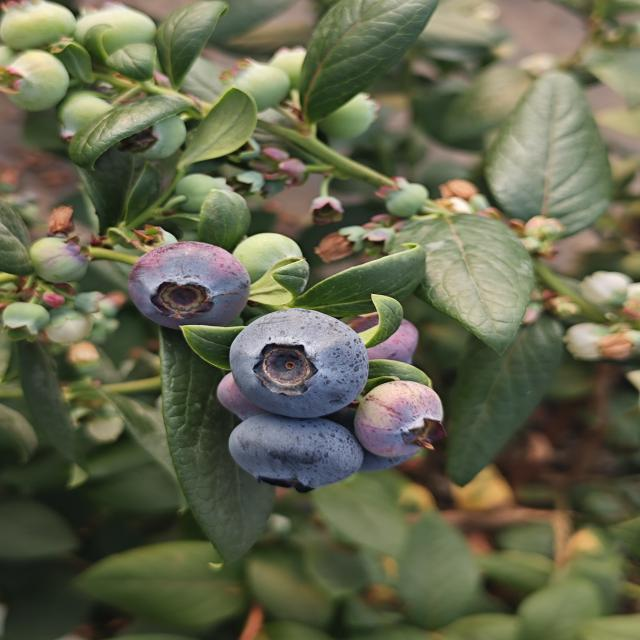ripe: (226, 306, 371, 420), (125, 239, 253, 332), (226, 413, 366, 493), (351, 378, 448, 462), (353, 301, 422, 370)
